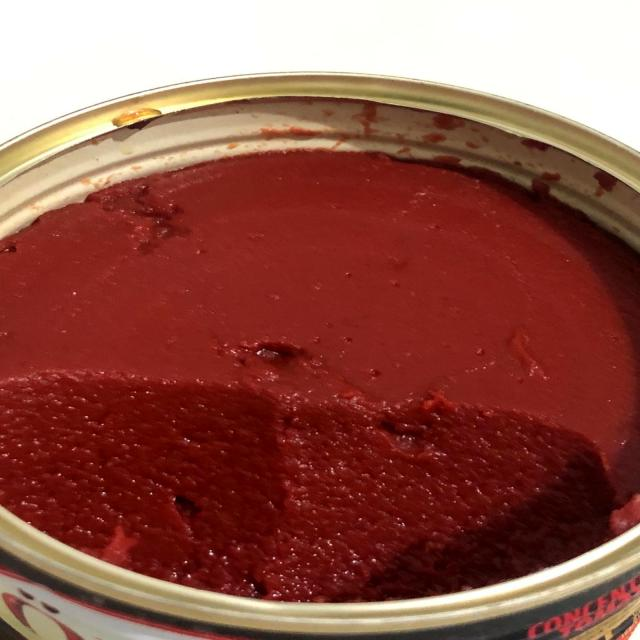tomato paste: (1, 73, 640, 640)
